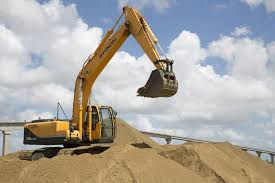excavator: (20, 4, 178, 162)
